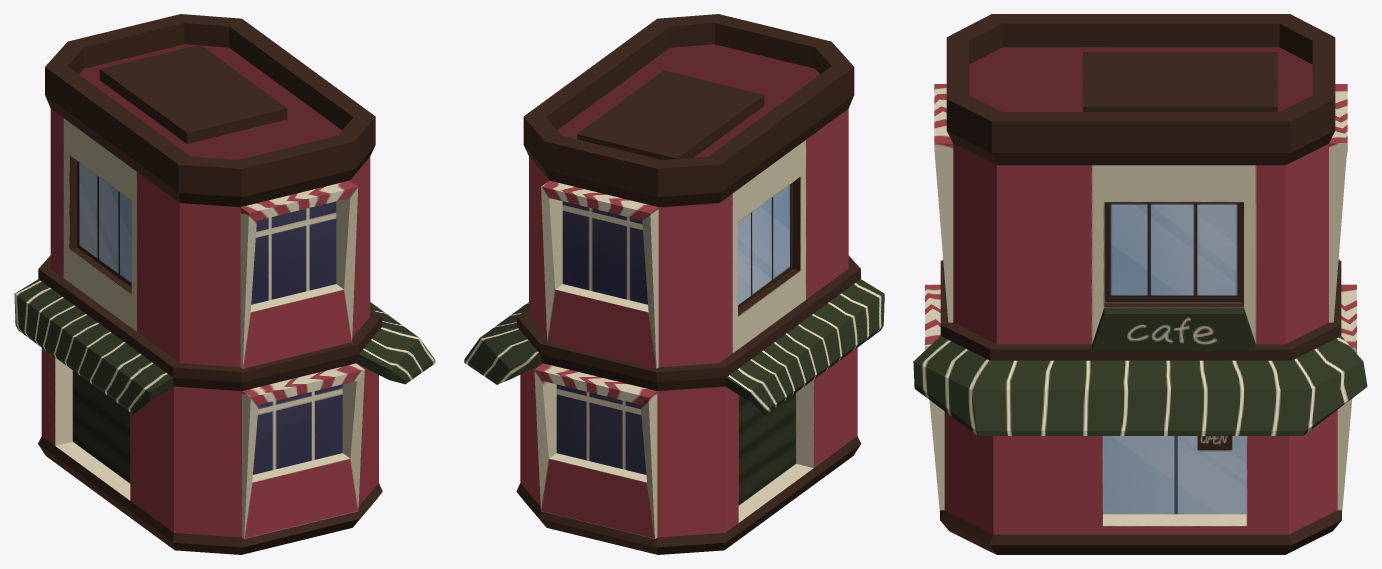
File: building_T2-2.fbx
3 renders of one model, left to right at view 1: azimuth 30°, elevation 25°; view 2: azimuth 150°, elevation 25°; view 3: azimuth 270°, elevation 25°, orthographic. The views are drawn at different scales.
Visible parts, largest first — view 1: Cube; view 2: Cube; view 3: Cube.
Part boxes in pixels (x1=…): Cube: x1=14, y1=14, x2=435, y2=554; Cube: x1=464, y1=14, x2=884, y2=554; Cube: x1=913, y1=14, x2=1367, y2=554.
Size of the model in its own units: 184 by 237 by 225.
